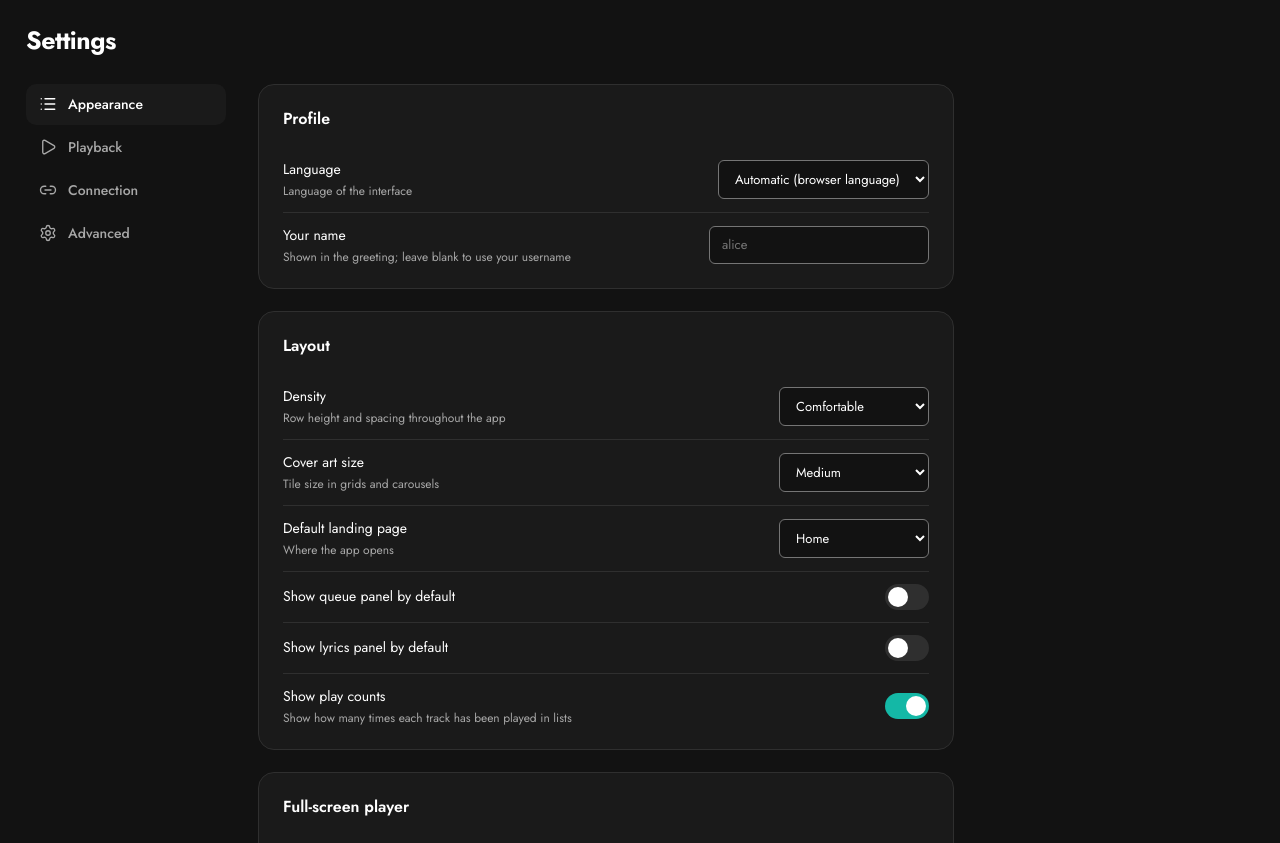
Test: SettingsView › shows recent logs on the Advanced tab when asked
The image size is (1280, 843).
Click the tab "Advanced" at (126, 233), box [26,212,226,254]
(page scrolled)
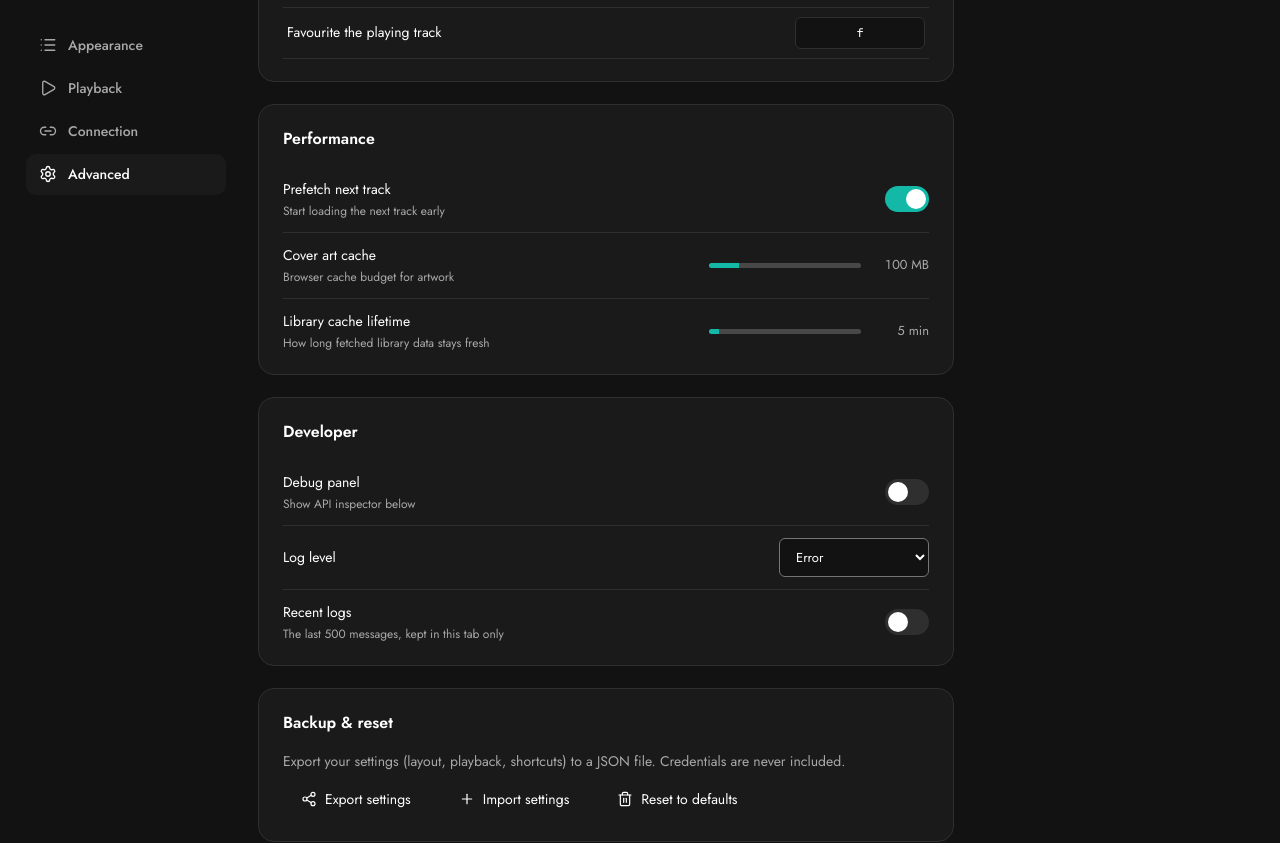
Click the switch named "Recent logs" at (907, 622), box [885,609,929,635]
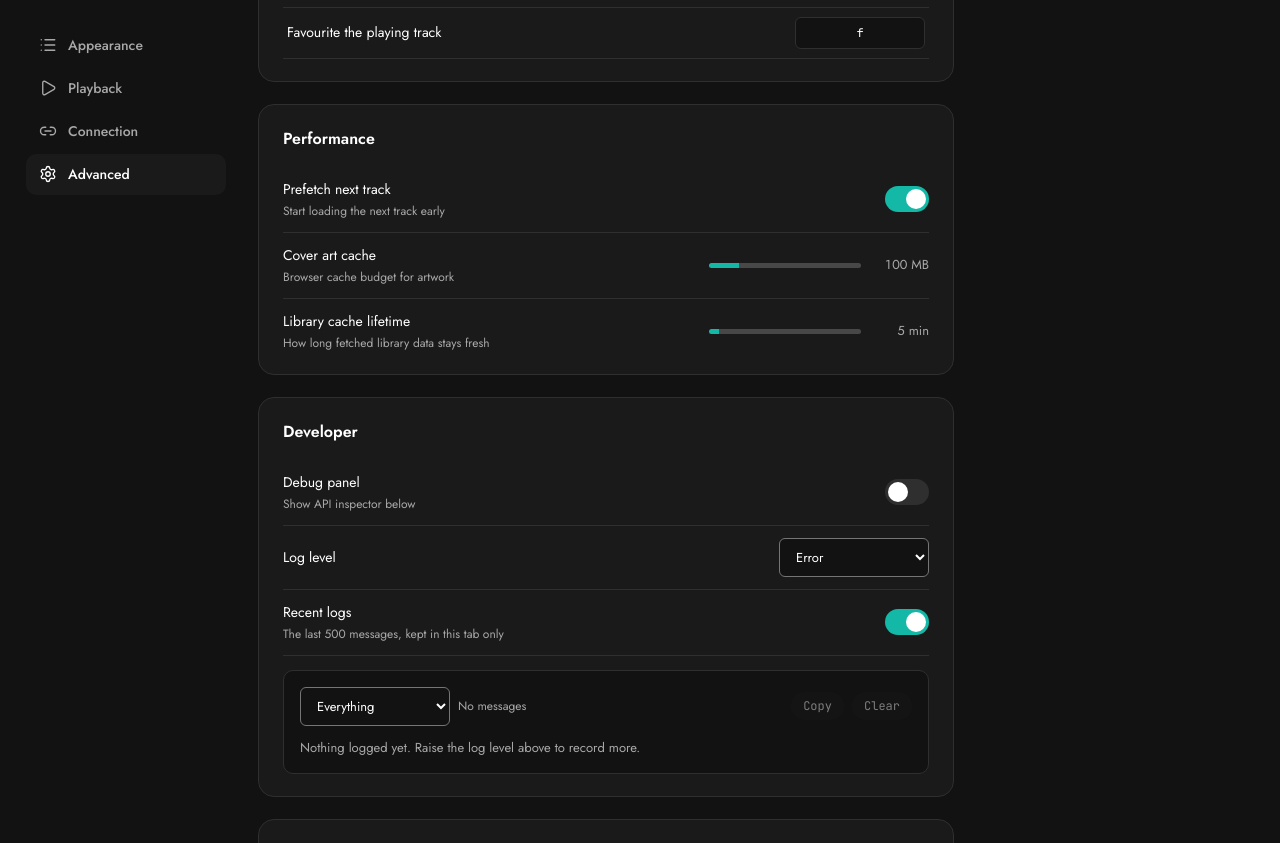
Expected: the element with class "log-viewer" is shown, [283,670,929,774]
